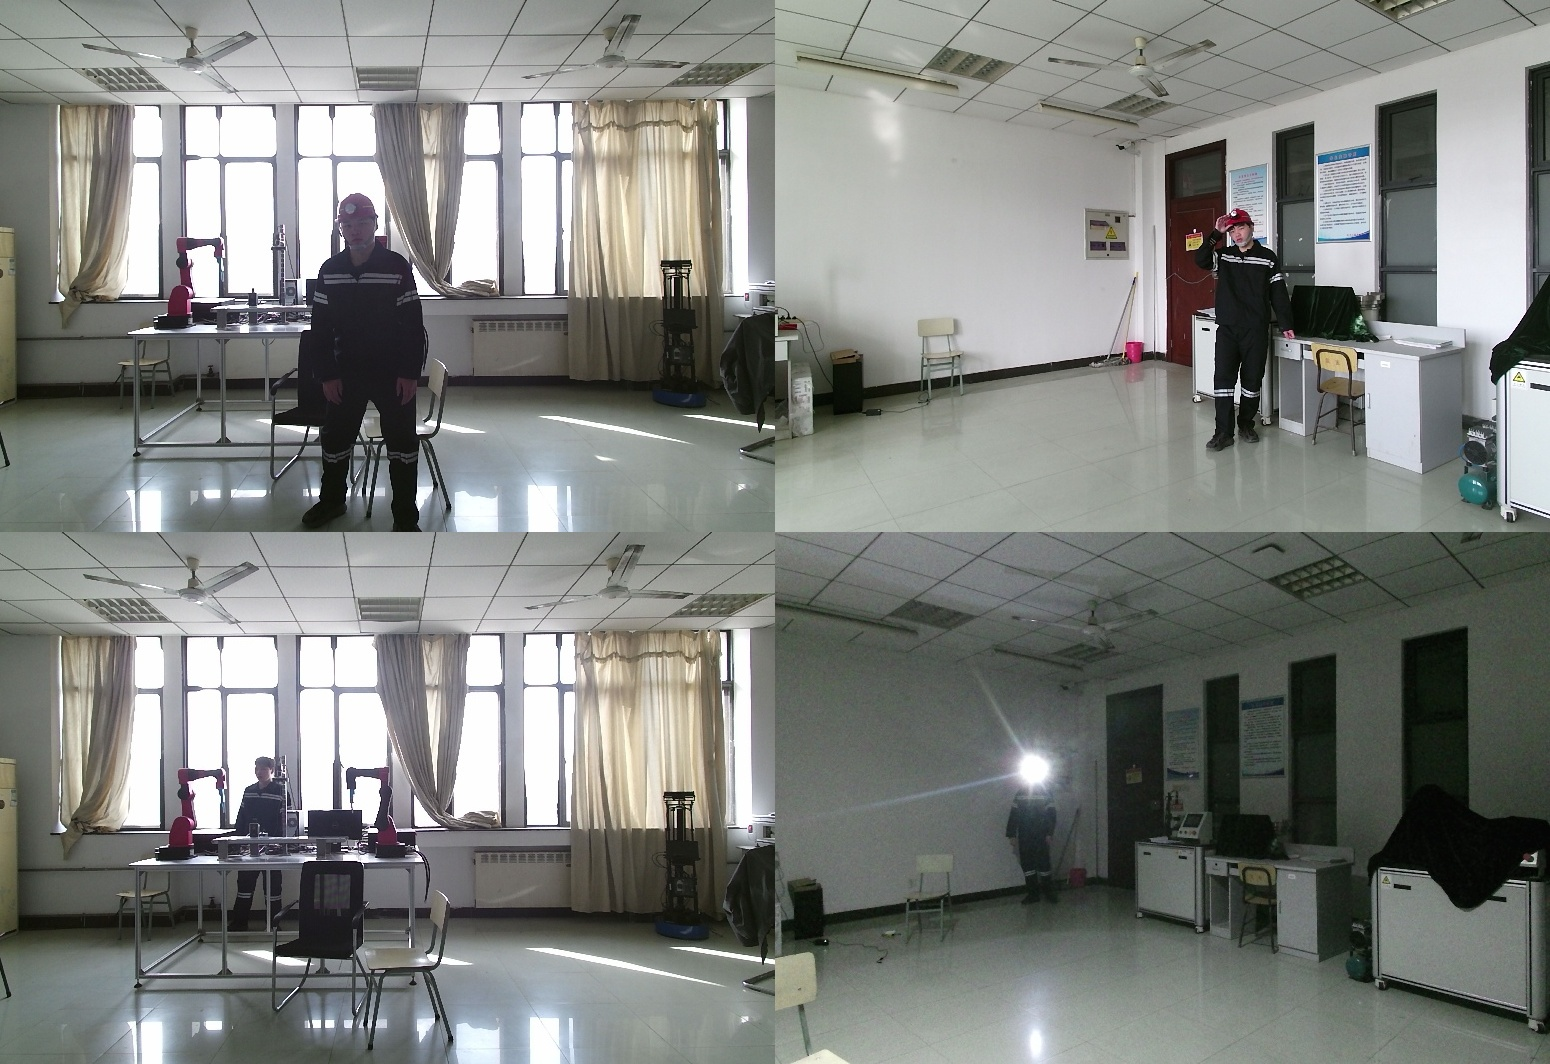person: (303, 191, 440, 532), (1198, 209, 1300, 453), (229, 756, 297, 934), (1008, 766, 1070, 909)
